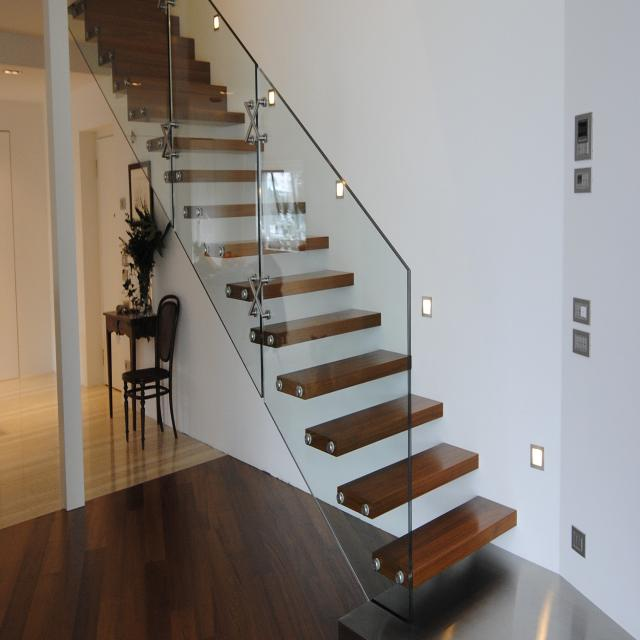upstair: (197, 117, 524, 523)
